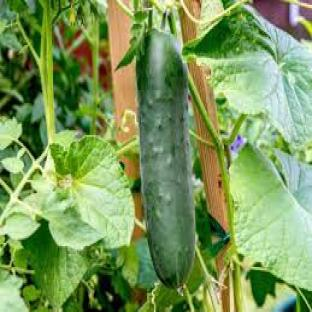Cucumber: (137, 29, 195, 287)
